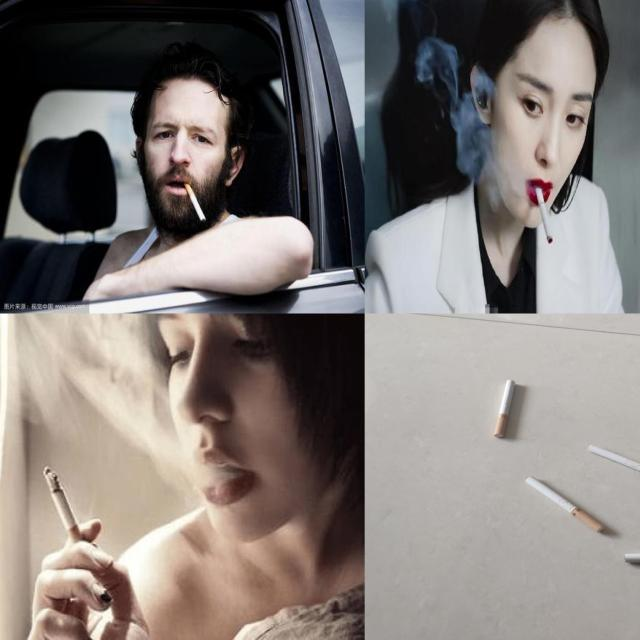smoking: (525, 476, 606, 532), (43, 466, 83, 544), (587, 444, 640, 484), (494, 380, 516, 438), (180, 179, 208, 224), (534, 186, 554, 247)
